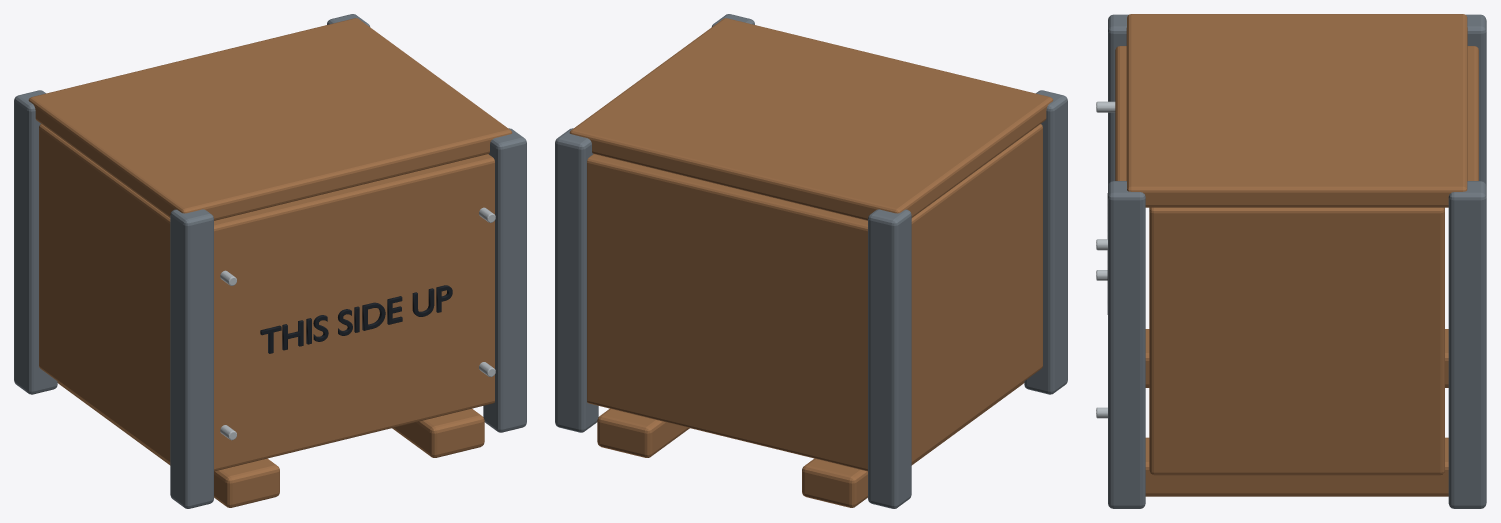
Rendered from prop_service_loading_crate_a_v01.glb.
3 views of the same model, side by side, from view 1: azimuth 30°, elevation 25°; view 2: azimuth 150°, elevation 25°; view 3: azimuth 270°, elevation 25° (orthographic). The views are drawn at different scales.
Visible parts, largest first — view 1: component__crate_panels__crate_front, component__crate_panels__crate_top, component__crate_panels__crate_left, component__corner_frame__corner_frame.001, component__corner_frame__corner_frame.003, component__corner_frame__corner_frame.002, component__base_skids__base_skid.001, component__handling_markings__handling_marking, component__base_skids__base_skid; view 2: component__crate_panels__crate_back, component__crate_panels__crate_top, component__crate_panels__crate_left, component__corner_frame__corner_frame.002, component__corner_frame__corner_frame, component__corner_frame__corner_frame.001, component__base_skids__base_skid.001, component__base_skids__base_skid; view 3: component__crate_panels__crate_right, component__crate_panels__crate_top, component__corner_frame__corner_frame, component__corner_frame__corner_frame.003, component__base_skids__base_skid.001, component__corner_frame__corner_frame.002, component__corner_frame__corner_frame.001, component__crate_panels__crate_back, component__crate_panels__crate_front, component__base_skids__base_skid.
Boxes of the visible parts, x1,y1,x2,y2 form: component__crate_panels__crate_front: (214, 154, 494, 471); component__crate_panels__crate_top: (28, 18, 512, 220); component__crate_panels__crate_left: (39, 124, 170, 463); component__corner_frame__corner_frame.001: (170, 209, 213, 508); component__corner_frame__corner_frame.003: (483, 128, 526, 432); component__corner_frame__corner_frame.002: (14, 90, 57, 394); component__base_skids__base_skid.001: (392, 408, 484, 457); component__handling_markings__handling_marking: (260, 285, 452, 353); component__base_skids__base_skid: (57, 381, 279, 507); component__crate_panels__crate_back: (587, 154, 867, 471); component__crate_panels__crate_top: (569, 18, 1053, 220); component__crate_panels__crate_left: (911, 124, 1042, 463); component__corner_frame__corner_frame.002: (868, 209, 911, 508); component__corner_frame__corner_frame: (555, 128, 598, 432); component__corner_frame__corner_frame.001: (1024, 90, 1067, 394); component__base_skids__base_skid.001: (597, 408, 689, 457); component__base_skids__base_skid: (802, 381, 1024, 507); component__crate_panels__crate_right: (1149, 207, 1444, 475); component__crate_panels__crate_top: (1126, 14, 1467, 207); component__corner_frame__corner_frame: (1448, 181, 1486, 508); component__corner_frame__corner_frame.003: (1108, 181, 1145, 508); component__base_skids__base_skid.001: (1145, 437, 1448, 496); component__corner_frame__corner_frame.002: (1465, 14, 1486, 186); component__corner_frame__corner_frame.001: (1108, 14, 1128, 185); component__crate_panels__crate_back: (1467, 46, 1478, 180); component__crate_panels__crate_front: (1115, 46, 1126, 180); component__base_skids__base_skid: (1145, 329, 1448, 387).
Bounding box in the file's own units: 1.14 × 0.96 × 1.03.
